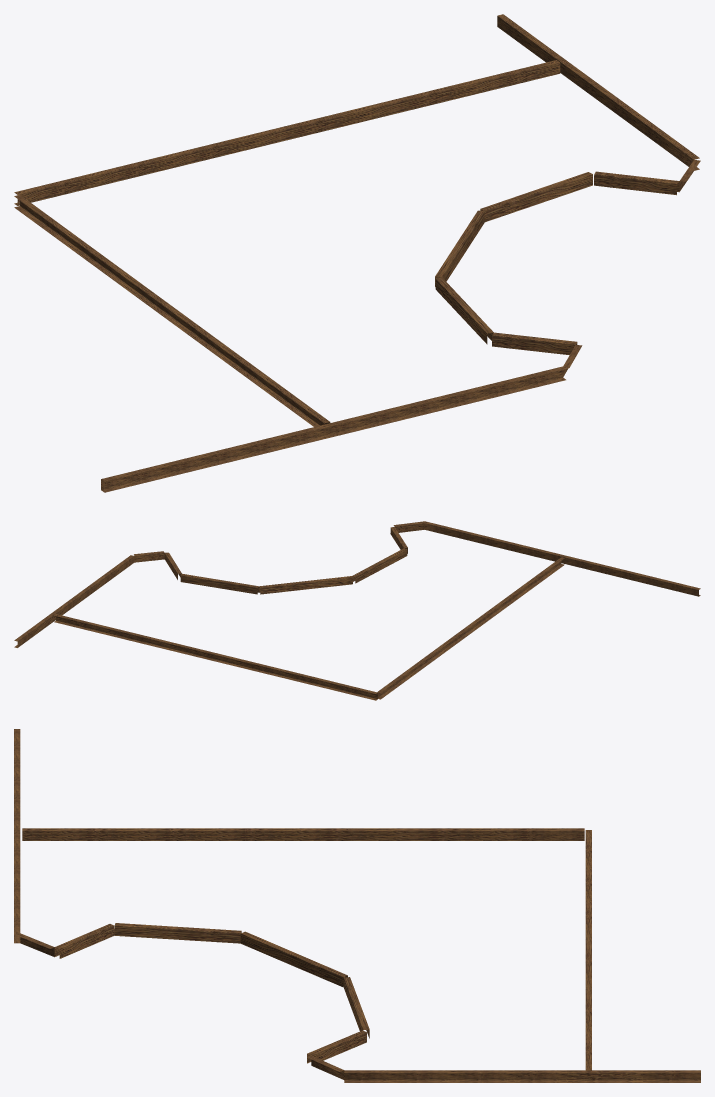
The model's file is LAKETOWN_EXTERIOR_PS_LT_PLANE893.fbx.
The picture shows the model from 3 angles, top to bottom: view 1: azimuth 30°, elevation 25°; view 2: azimuth 150°, elevation 25°; view 3: azimuth 270°, elevation 25°; orthographic projection. The views are drawn at different scales.
Parts seen in each view (by area): view 1: LAKETOWN_EXTERIOR_PS_LT_PLANE893; view 2: LAKETOWN_EXTERIOR_PS_LT_PLANE893; view 3: LAKETOWN_EXTERIOR_PS_LT_PLANE893.
Part boxes in pixels (x1,y1,x2,y2): LAKETOWN_EXTERIOR_PS_LT_PLANE893: (14,14,700,492); LAKETOWN_EXTERIOR_PS_LT_PLANE893: (14,521,700,700); LAKETOWN_EXTERIOR_PS_LT_PLANE893: (14,729,700,1082).
Bounding box in the file's own units: 363086 × 4988 × 306563.
Materials: 1 (1 with a texture image).
